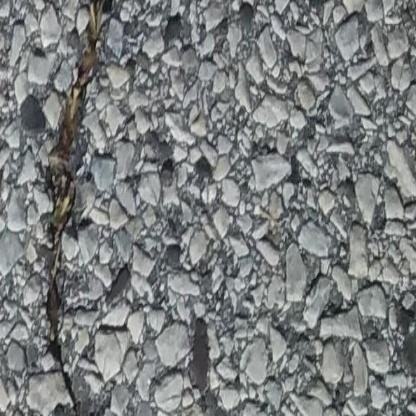Cracks: (36, 0, 111, 416)
